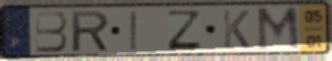B: (33, 9, 70, 54)
I: (127, 9, 140, 52)
K: (220, 8, 252, 50)
M: (255, 5, 302, 53)
R: (69, 9, 112, 54)
Z: (166, 9, 204, 51)
